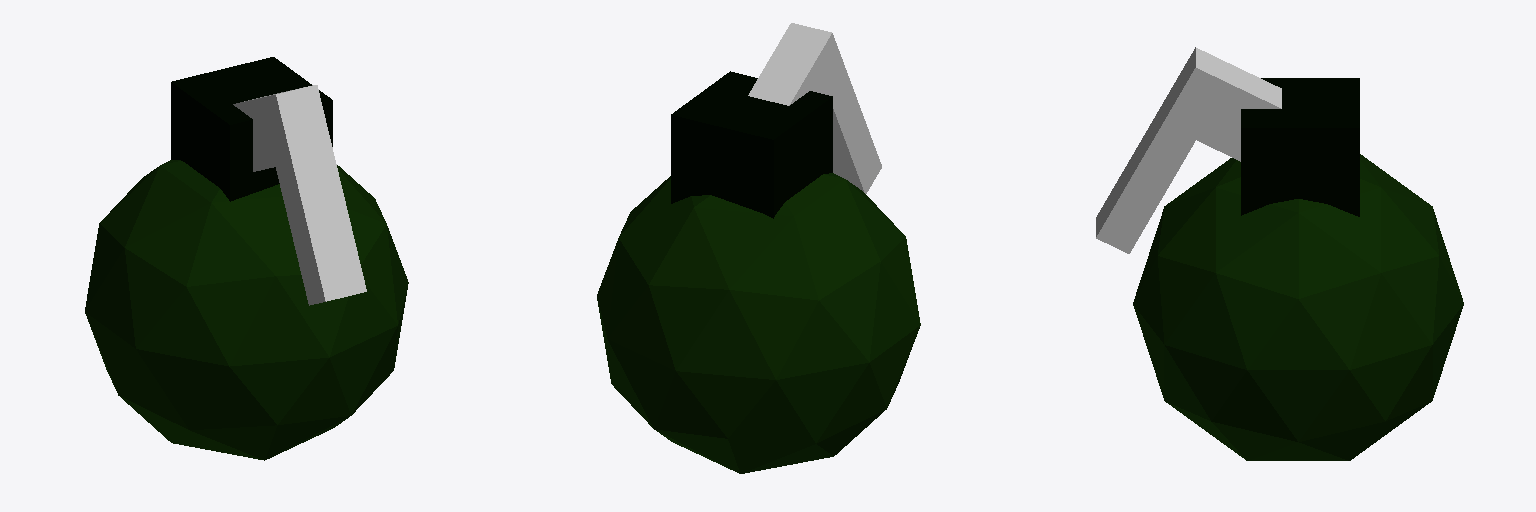
Rendered from grenade.obj.
3 renders of one model, left to right at view 1: azimuth 30°, elevation 25°; view 2: azimuth 150°, elevation 25°; view 3: azimuth 270°, elevation 25°, orthographic.
Parts seen in each view (by area): view 1: Cube; view 2: Cube; view 3: Cube.
Part boxes in pixels (x1,y1,x2,y2): Cube: (85,57,408,460); Cube: (597,23,920,473); Cube: (1096,47,1463,460).
Bounding box in the file's own units: 2.2 × 3.04 × 2.57.